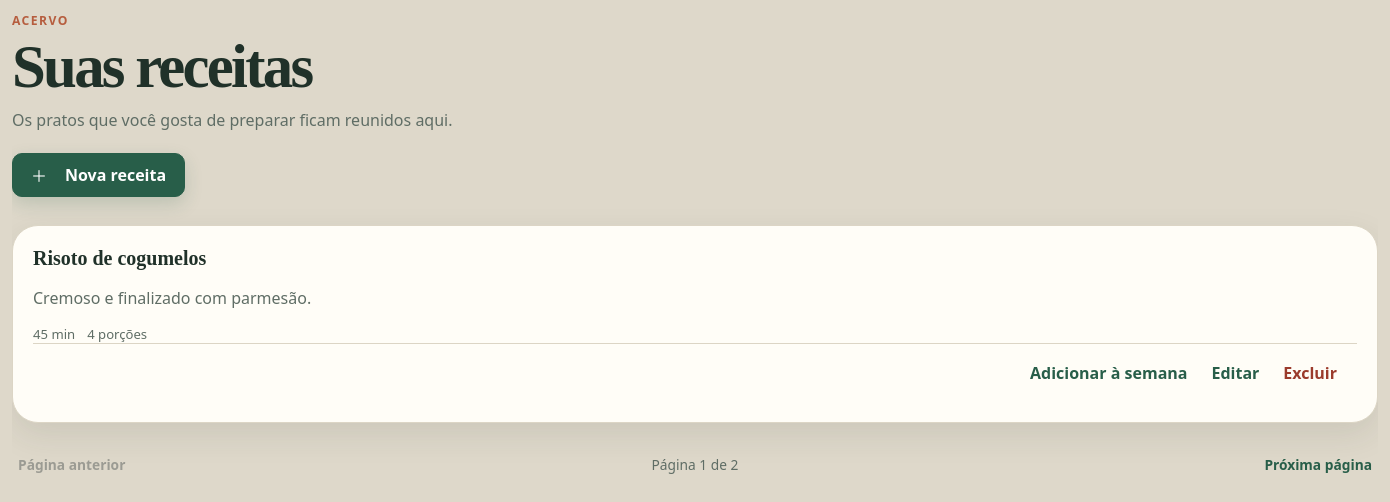
RecipesPage › returns to the previous page after deleting its only recipe
Expected: the heading "Risoto de cogumelos" is shown, x1=33 y1=246 x2=206 y2=270
Click the button "Próxima página" at (1318, 464), box x1=1258 y1=443 x2=1378 y2=485
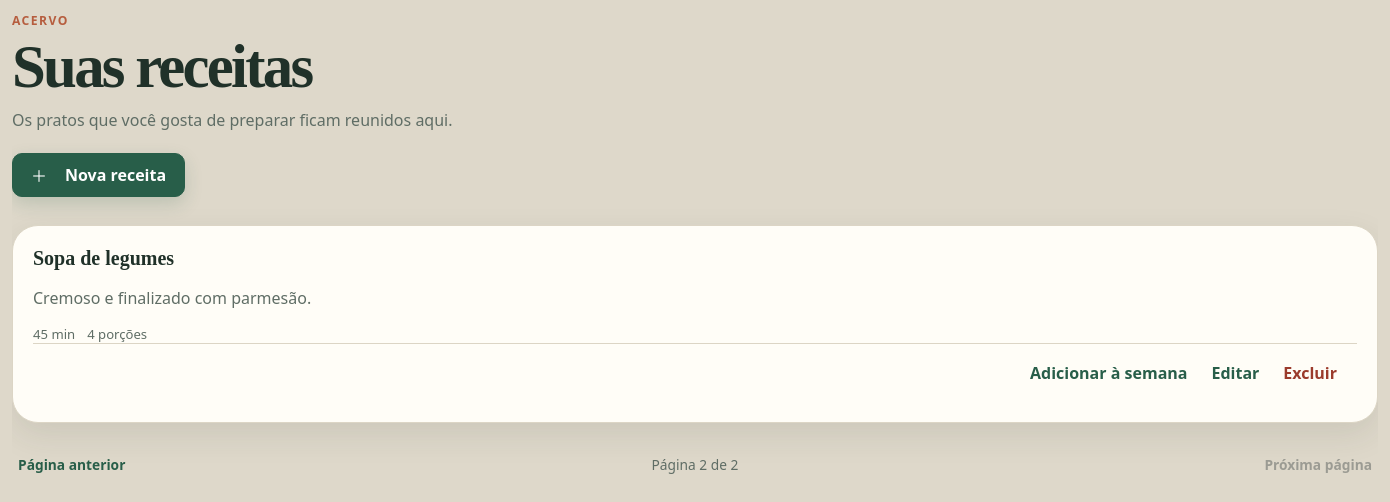
Now the heading "Sopa de legumes" is shown, box x1=33 y1=246 x2=174 y2=270
Click the button "Excluir" at (1310, 373), box x1=1277 y1=352 x2=1343 y2=394
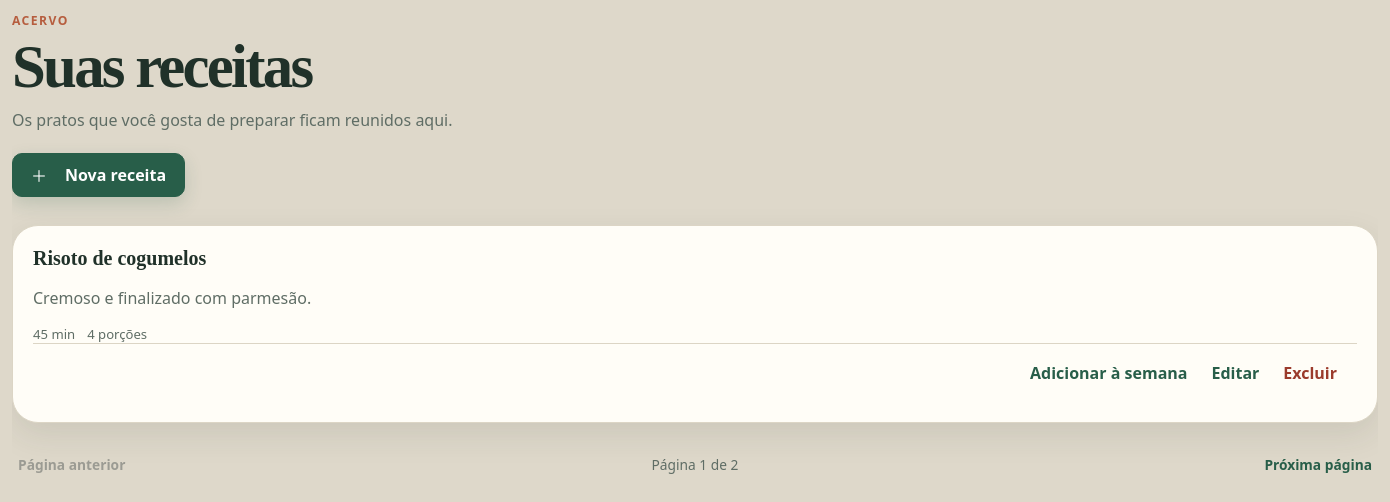
Now the heading "Risoto de cogumelos" is shown, box x1=33 y1=246 x2=206 y2=270
